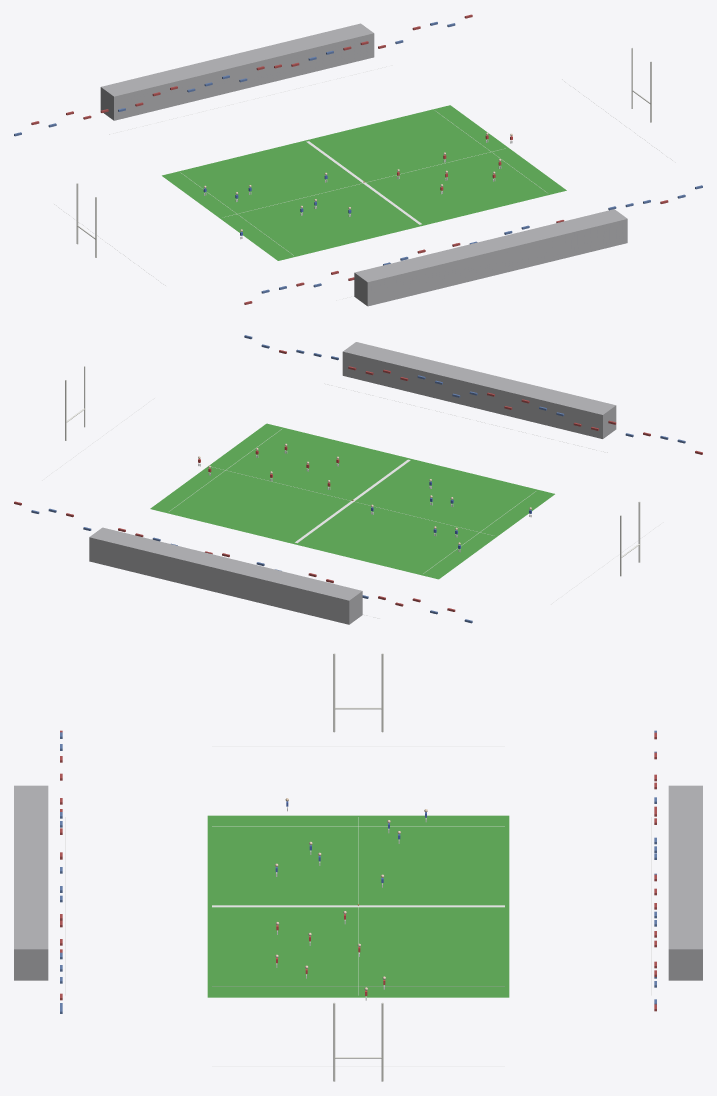
3 renders of one model, top to bottom at view 1: azimuth 30°, elevation 25°; view 2: azimuth 150°, elevation 25°; view 3: azimuth 270°, elevation 25°, orthographic. The views are drawn at different scales.
Visible parts, largest first — view 1: Pitch, Stand_-38, Stand_38; view 2: Pitch, Stand_38, Stand_-38; view 3: Pitch, Stand_-38, Stand_38, Line_0.
Part boxes in pixels (x1=…): Pitch: x1=162, y1=105, x2=566, y2=260; Stand_-38: x1=354, y1=209, x2=627, y2=306; Stand_38: x1=100, y1=23, x2=374, y2=120; Pitch: x1=150, y1=423, x2=554, y2=579; Stand_38: x1=89, y1=527, x2=362, y2=624; Stand_-38: x1=342, y1=342, x2=616, y2=438; Pitch: x1=207, y1=815, x2=509, y2=997; Stand_-38: x1=14, y1=785, x2=48, y2=980; Stand_38: x1=668, y1=785, x2=702, y2=980; Line_0: x1=212, y1=905, x2=504, y2=907.
Size of the model in its own units: 96.24 by 10 by 80.
